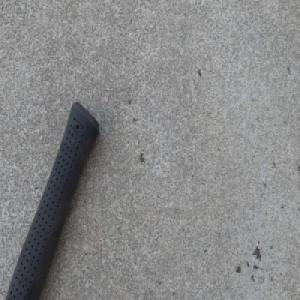Hammer: (5, 98, 102, 300)
